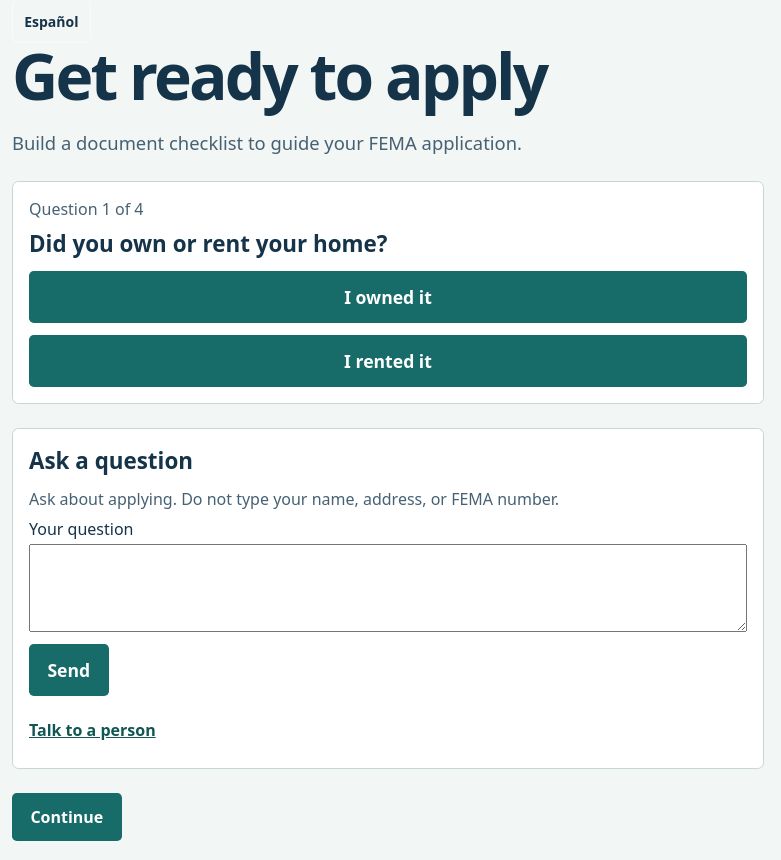
Test: chat panel › shows a reply with citation links
This screenshot has width=781, height=860.
Step 1. Type "What if I lost my ID?" into the text box labelled "Your question" → (388, 588), box x1=29 y1=544 x2=747 y2=632
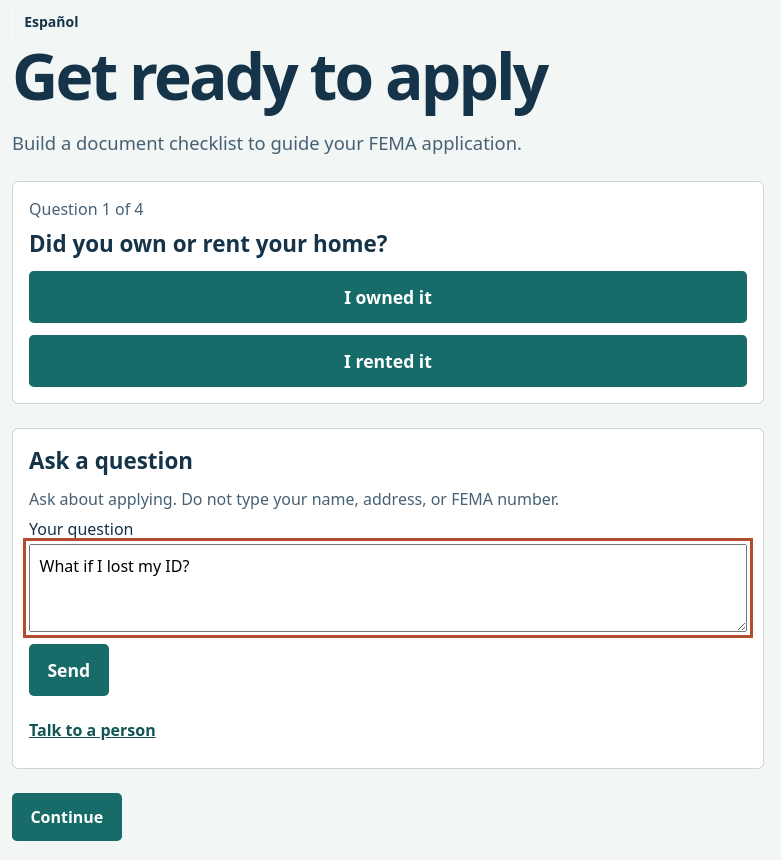
Step 2. Click the button "Send" → (69, 670), box x1=29 y1=644 x2=109 y2=696
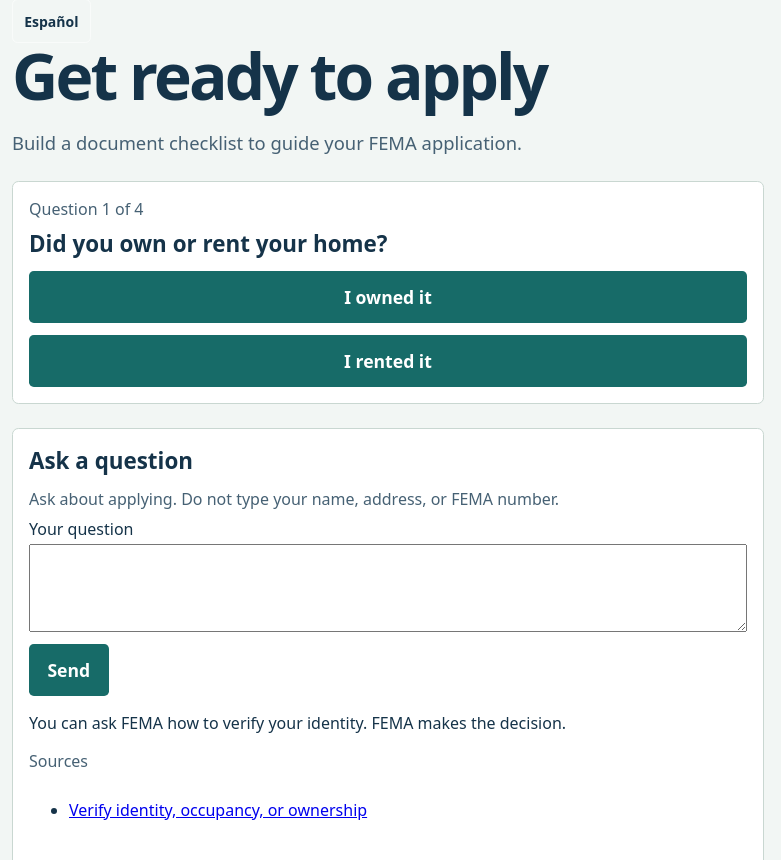
Now the text "FEMA makes the decision" is shown, box x1=29 y1=712 x2=566 y2=734
